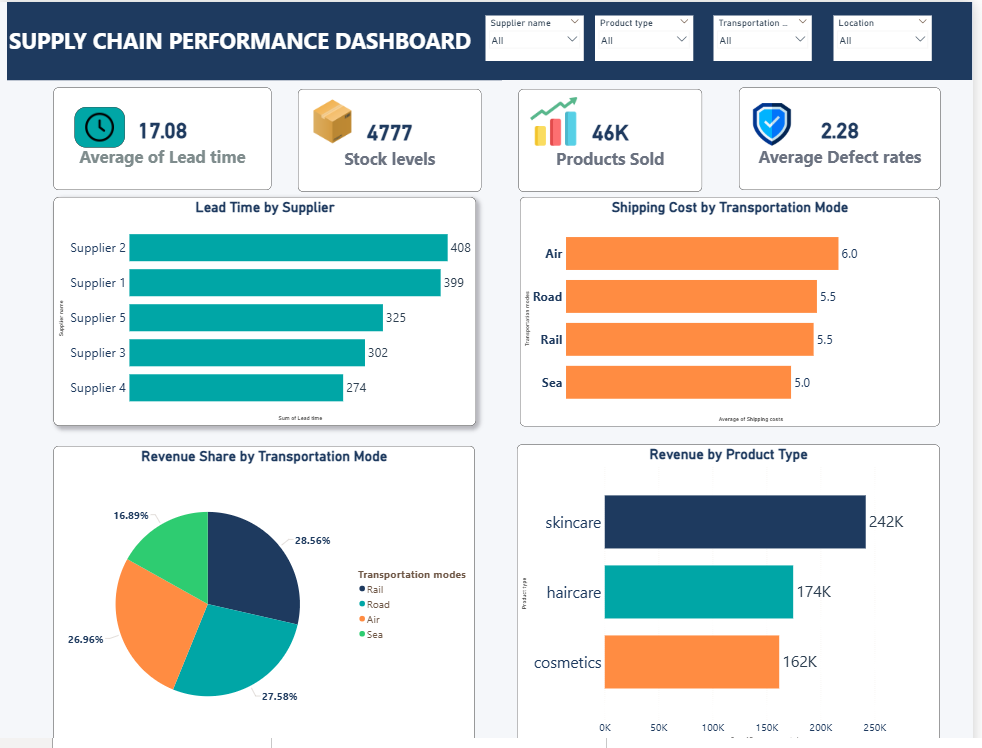

This screenshot's page, from the dashboard's own definition file:
{"tool":"powerbi","page":{"name":"Executive Overview","canvas":[2500,2000],"ordinal":0},"visuals":[{"type":"card","fields":{"Values":["Sum(supply_chain_data (1).Number of products sold)"]},"box":[1333.3,221.7,470.4,263.7],"z":1000},{"type":"card","fields":{"Values":["Avg(supply_chain_data (1).Lead time)"]},"box":[141.7,220.8,558.3,262.5],"z":3000},{"type":"card","fields":{"Values":["Sum(supply_chain_data (1).Stock levels)"]},"box":[770,221.7,470,263.7],"z":4000},{"type":"card","fields":{"Values":["Avg(supply_chain_data (1).Defect rates)"]},"box":[1900,220.8,516.7,262.5],"z":5000},{"type":"barChart","title":"Revenue by Product Type","fields":{"Category":["supply_chain_data (1).Product type"],"Y":["Sum(supply_chain_data (1).Revenue generated)"]},"box":[1332,1136,1084,772],"z":6000},{"type":"pieChart","title":"Revenue Share by Transportation Mode","fields":{"Category":["supply_chain_data (1).Transportation modes"],"Y":["Sum(supply_chain_data (1).Revenue generated)"]},"box":[143.3,1136.7,1080,770],"z":7000},{"type":"barChart","title":"Lead Time by Supplier","fields":{"Category":["supply_chain_data (1).Supplier name"],"Y":["Sum(supply_chain_data (1).Lead time)"]},"box":[143.3,500,1083.3,586.7],"z":8000},{"type":"barChart","title":"Shipping Cost by Transportation Mode","fields":{"Category":["supply_chain_data (1).Transportation modes"],"Y":["Avg(supply_chain_data (1).Shipping costs)"]},"box":[1340,500,1076,588],"z":9000},{"type":"shape","box":[24,0,2474.8,200],"z":13000},{"type":"textbox","box":[24,0,1267.3,200.7],"z":14000},{"type":"slicer","fields":{"Values":["supply_chain_data (1).Supplier name"]},"box":[1249.4,36,251.7,116.8],"z":15000},{"type":"slicer","fields":{"Values":["supply_chain_data (1).Product type"]},"box":[1531,36,251.7,116.8],"z":16000},{"type":"slicer","fields":{"Values":["supply_chain_data (1).Transportation modes"]},"box":[1833.6,36,251.7,116.8],"z":17000},{"type":"slicer","fields":{"Values":["supply_chain_data (1).Location"]},"box":[2142.2,36,251.7,116.8],"z":18000},{"type":"image","box":[195.8,270.8,129.2,104.2],"z":19000},{"type":"image","box":[770,239.7,176.8,134.8],"z":20000},{"type":"image","box":[1321.3,239.7,203.7,134.8],"z":21000},{"type":"image","box":[1902.5,254.7,161.8,119.8],"z":22000}]}

Visuals, with their boxes on the page's 2500x2000 design canvas (x1, y1, x2, y2). These are canvas units, not pixel positions in the 982x748 screenshot, which may show the page scaled, cropped or inside an application window:
card - Sum(supply_chain_data (1).Number of products sold): bbox(1333, 222, 1804, 485)
card - Avg(supply_chain_data (1).Lead time): bbox(142, 221, 700, 483)
card - Sum(supply_chain_data (1).Stock levels): bbox(770, 222, 1240, 485)
card - Avg(supply_chain_data (1).Defect rates): bbox(1900, 221, 2417, 483)
"Revenue by Product Type" barChart: bbox(1332, 1136, 2416, 1908)
"Revenue Share by Transportation Mode" pieChart: bbox(143, 1137, 1223, 1907)
"Lead Time by Supplier" barChart: bbox(143, 500, 1227, 1087)
"Shipping Cost by Transportation Mode" barChart: bbox(1340, 500, 2416, 1088)
shape: bbox(24, 0, 2499, 200)
textbox: bbox(24, 0, 1291, 201)
slicer - supply_chain_data (1).Supplier name: bbox(1249, 36, 1501, 153)
slicer - supply_chain_data (1).Product type: bbox(1531, 36, 1783, 153)
slicer - supply_chain_data (1).Transportation modes: bbox(1834, 36, 2085, 153)
slicer - supply_chain_data (1).Location: bbox(2142, 36, 2394, 153)
image: bbox(196, 271, 325, 375)
image: bbox(770, 240, 947, 374)
image: bbox(1321, 240, 1525, 374)
image: bbox(1902, 255, 2064, 374)
